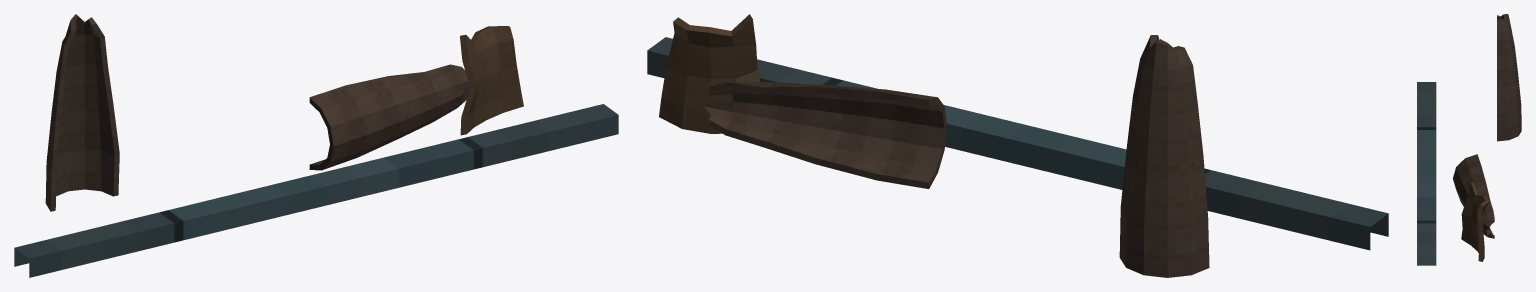
The model's file is T1_Lane_Mid_A.fbx.
3 views of the same model, side by side, from view 1: azimuth 30°, elevation 25°; view 2: azimuth 150°, elevation 25°; view 3: azimuth 270°, elevation 25° (orthographic). The views are drawn at different scales.
Parts seen in each view (by area): view 1: T1_Lane_Mid_A; view 2: T1_Lane_Mid_A; view 3: T1_Lane_Mid_A.
Boxes of the visible parts, <box> form: T1_Lane_Mid_A: <box>14,14,618,277</box>; T1_Lane_Mid_A: <box>647,14,1388,277</box>; T1_Lane_Mid_A: <box>1417,14,1521,265</box>.
Bounding box in the file's own units: 4.5 × 1.38 × 1.08.
